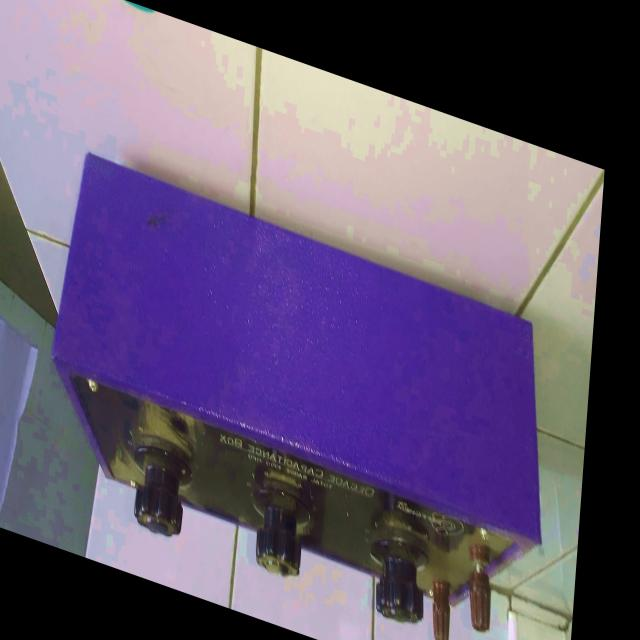Decade Capacitor Box: (34, 135, 564, 640)
